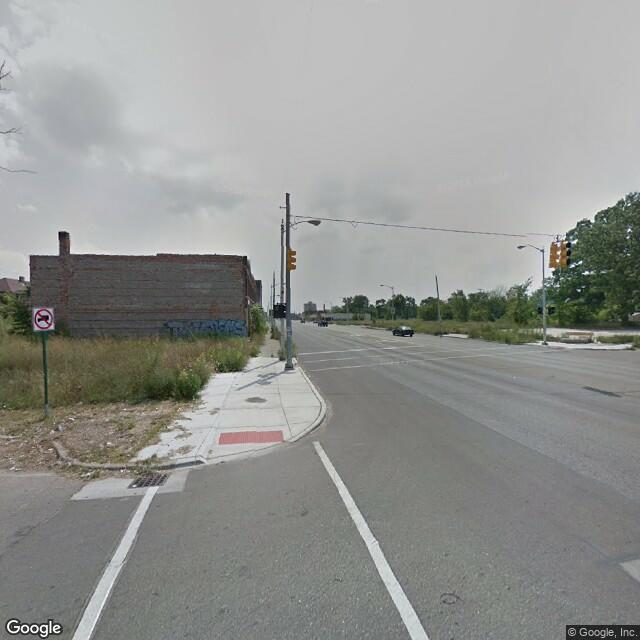litter: (75, 467, 102, 478), (3, 459, 19, 475), (48, 423, 66, 433), (130, 484, 141, 491)
